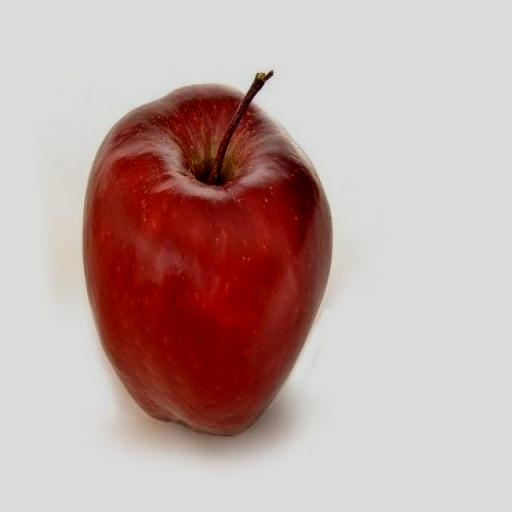fruit: (83, 73, 331, 434)
